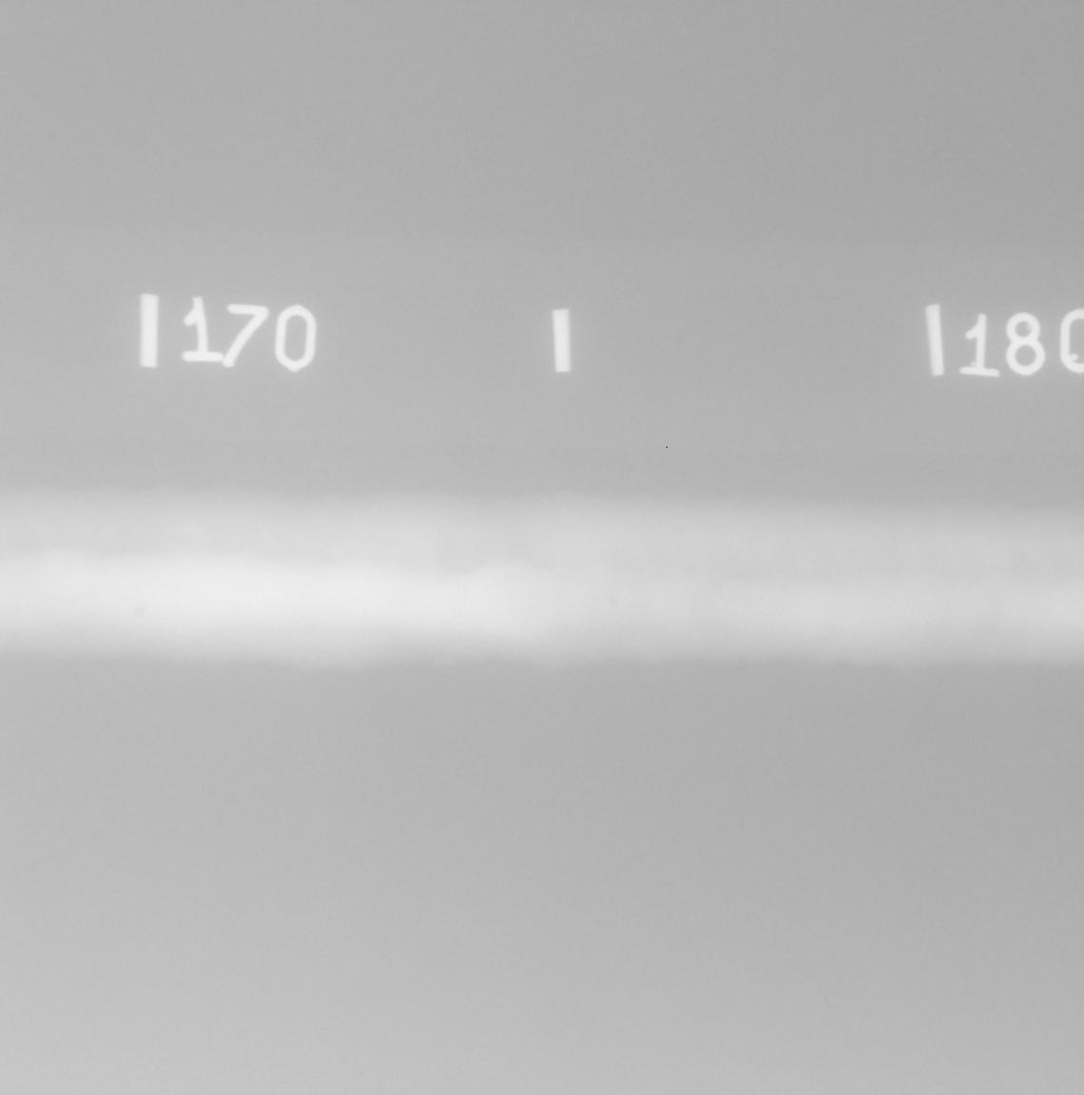Pore/Porosity: (133, 607, 143, 617), (298, 657, 307, 668), (611, 600, 619, 605)
